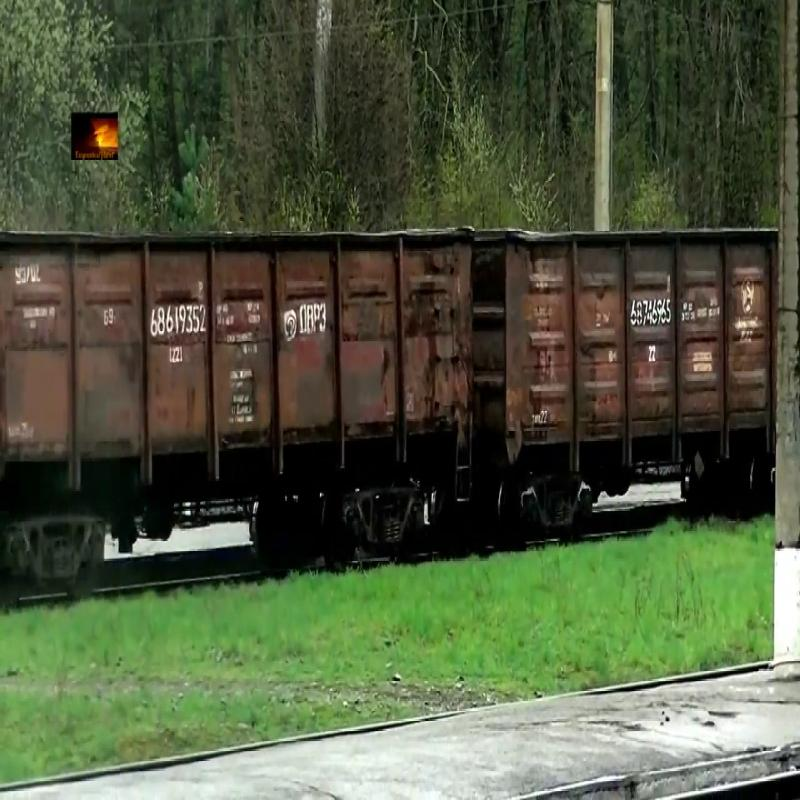train: (1, 226, 477, 490), (479, 230, 777, 469)
